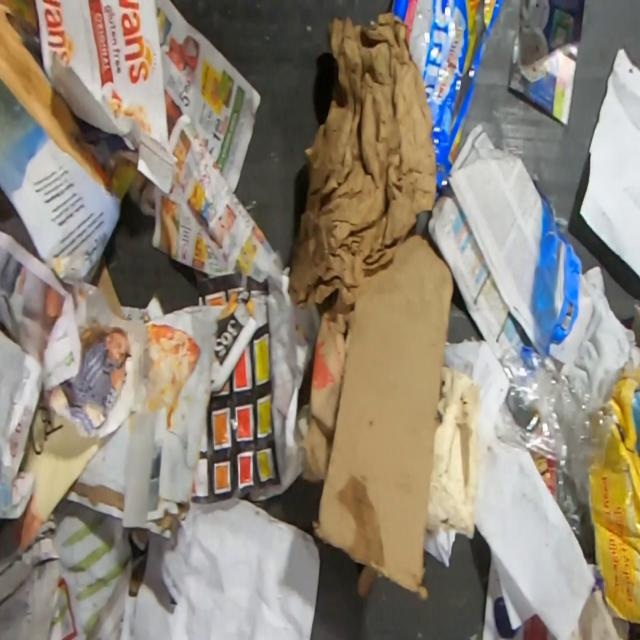cardboard: (310, 233, 455, 600), (587, 363, 640, 624), (298, 291, 356, 483), (426, 363, 481, 538), (357, 564, 385, 598)
rigid_plastic: (498, 178, 614, 566)
soft_plastic: (389, 0, 506, 210)
